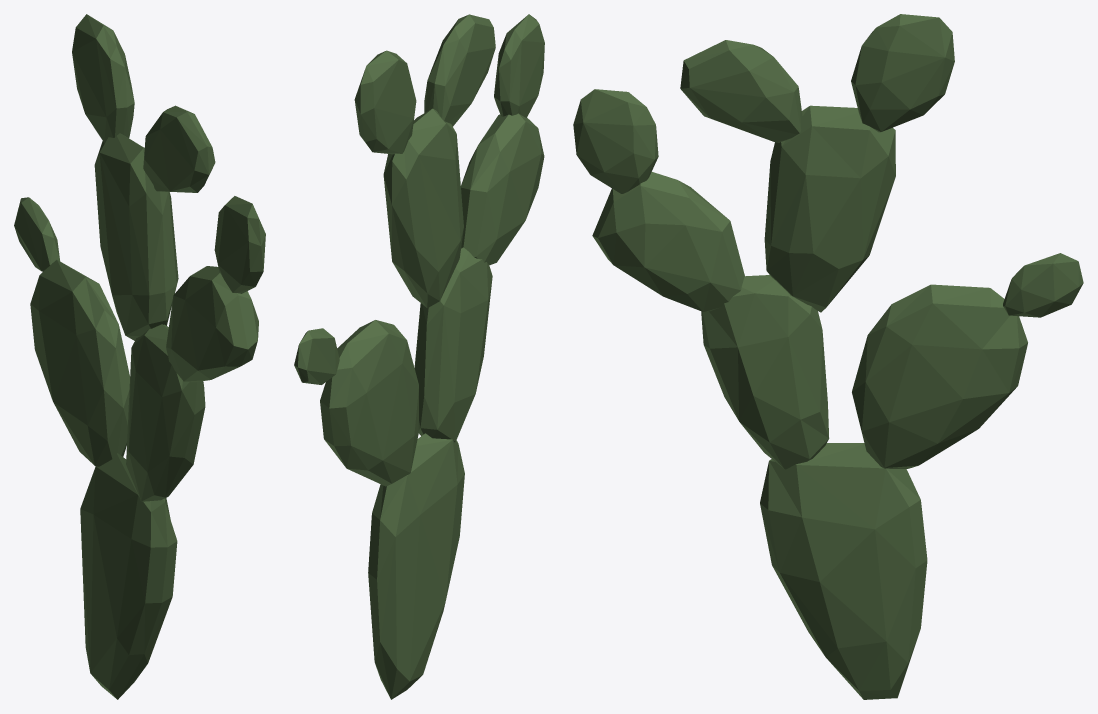
The model's file is Cactus_4.lod1.glb.
The picture shows the model from 3 angles, left to right: view 1: azimuth 30°, elevation 25°; view 2: azimuth 150°, elevation 25°; view 3: azimuth 270°, elevation 25°; orthographic projection. The views are drawn at different scales.
Visible parts, largest first — view 1: Cactus_4; view 2: Cactus_4; view 3: Cactus_4.
Boxes of the visible parts, bbox=[...] form: Cactus_4: bbox=[14, 14, 265, 699]; Cactus_4: bbox=[294, 14, 544, 699]; Cactus_4: bbox=[573, 14, 1083, 699].
Bounding box in the file's own units: 0.1092 × 1.37 × 0.9204.
